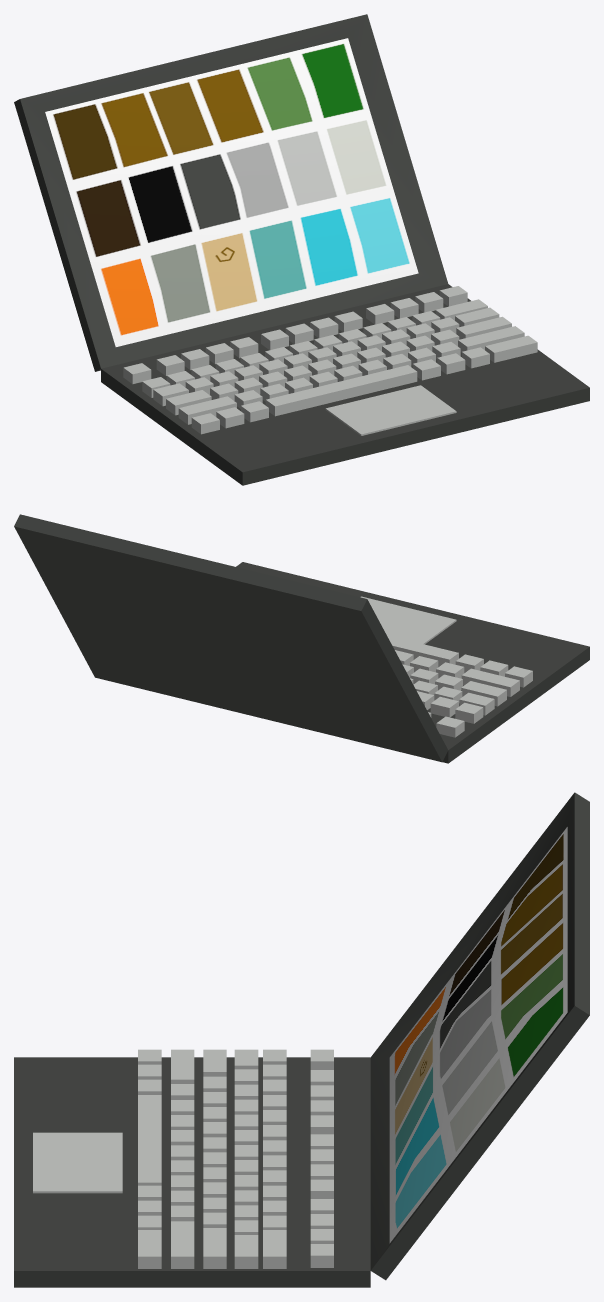
Rendered from soft_computer_1.fbx.
3 views of the same model, one above another, from view 1: azimuth 30°, elevation 25°; view 2: azimuth 150°, elevation 25°; view 3: azimuth 270°, elevation 25° (orthographic). The views are drawn at different scales.
Visible parts, largest first — view 1: soft_computer_1; view 2: soft_computer_1; view 3: soft_computer_1.
Part boxes in pixels (x1,y1,x2,y2): soft_computer_1: (14, 14, 589, 485); soft_computer_1: (14, 514, 589, 763); soft_computer_1: (14, 792, 589, 1287).
Bounding box in the file's own units: 1.42 × 0.8724 × 1.61.
